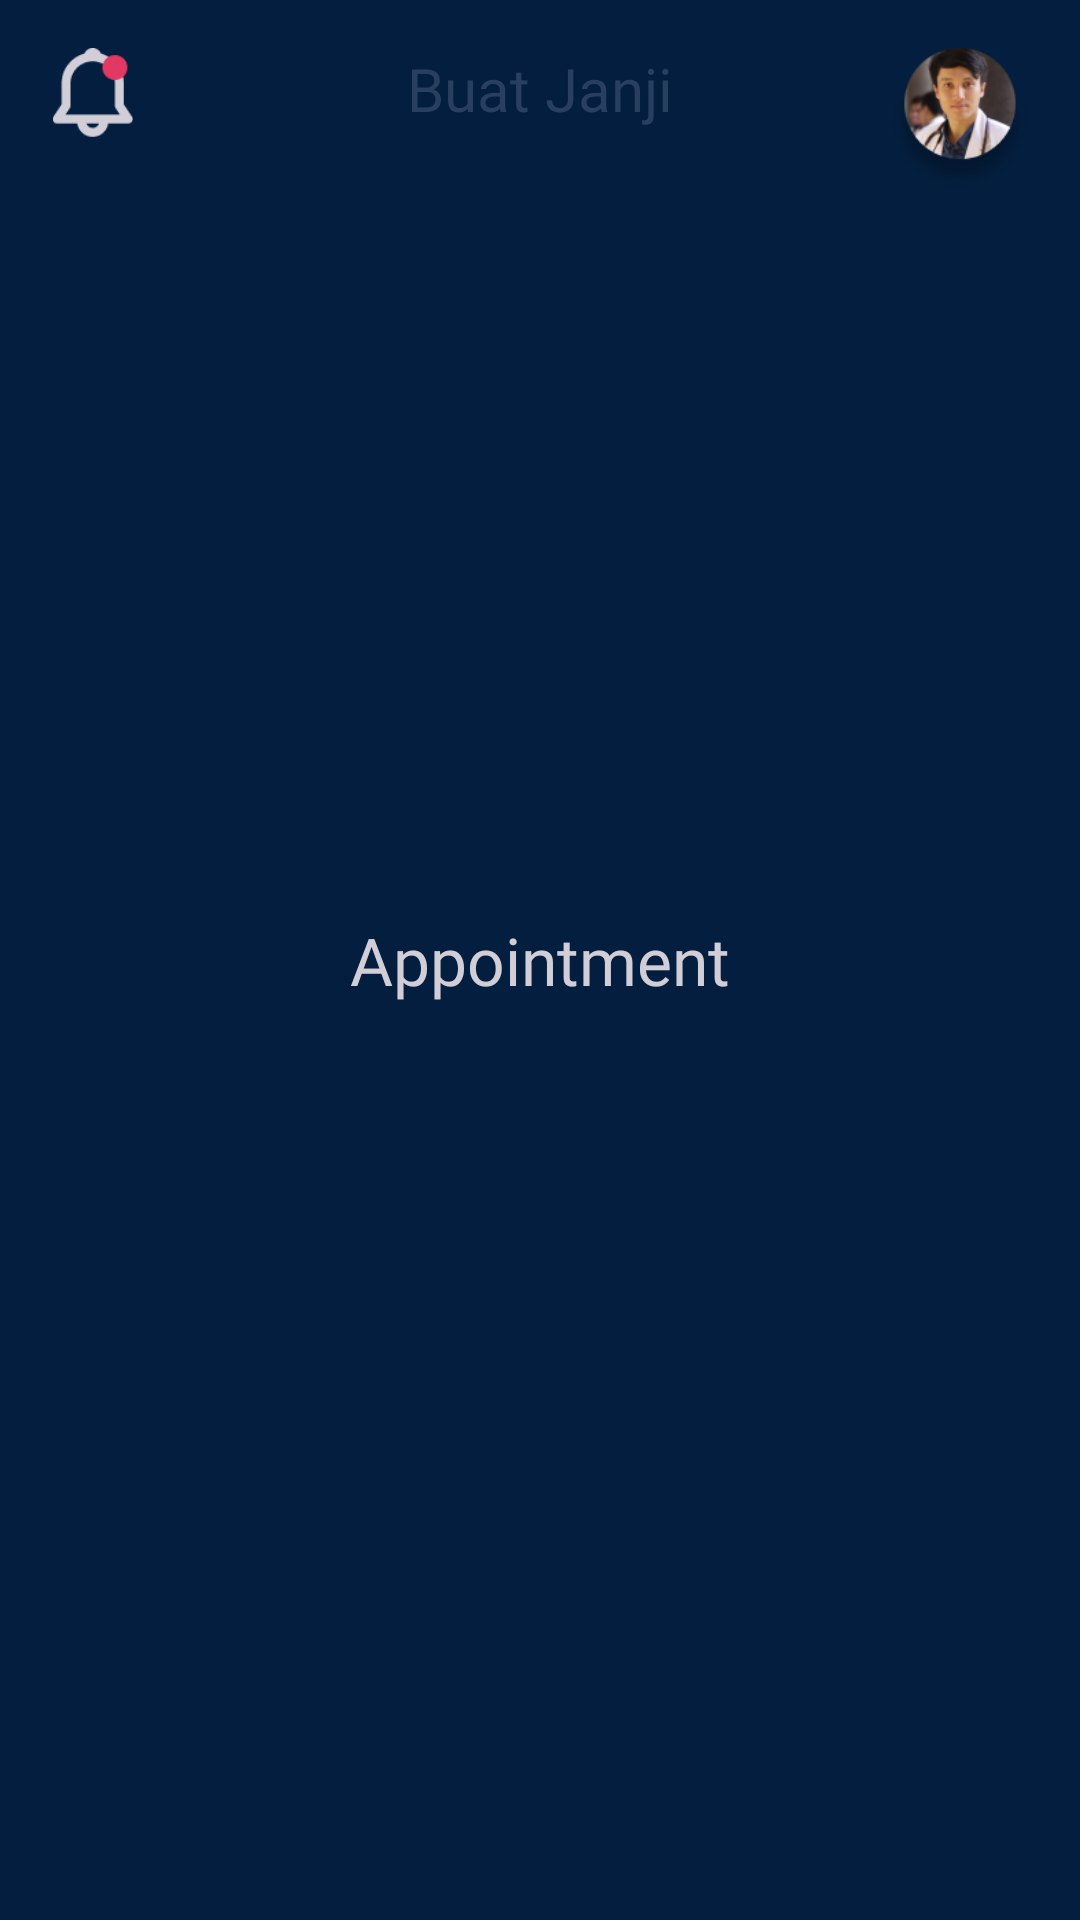

Named icons in this screenshot (1080 x 1920) and their centers, (x=x, y=y):
notif: (x=93, y=92)
profle: (x=960, y=104)
